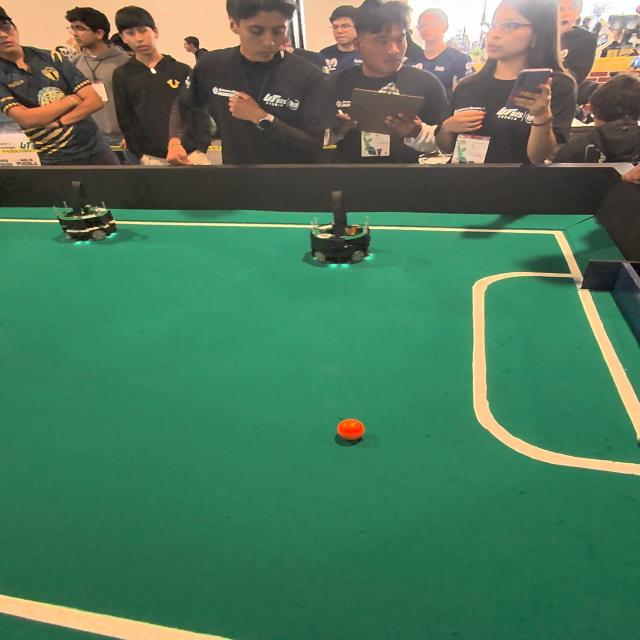Robot: (305, 188, 379, 274), (50, 177, 120, 252)
pelota: (338, 417, 367, 443)
